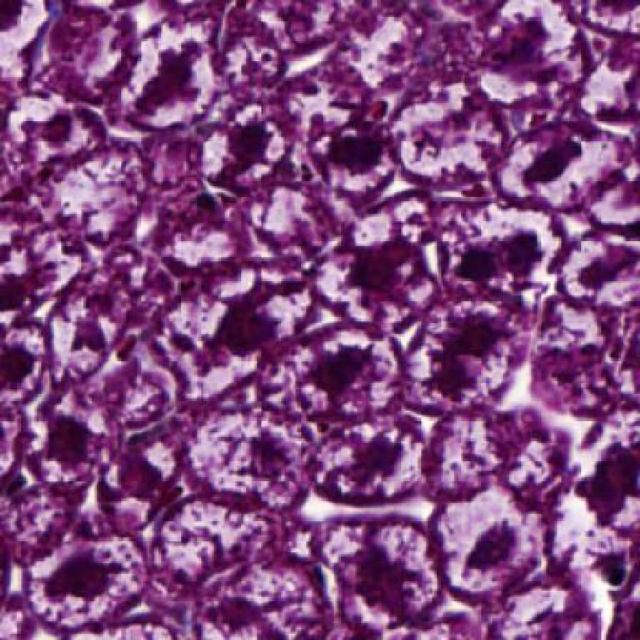inflammation: (22, 531, 148, 634), (289, 324, 398, 424), (306, 106, 403, 203), (196, 108, 296, 196), (197, 282, 291, 372)
